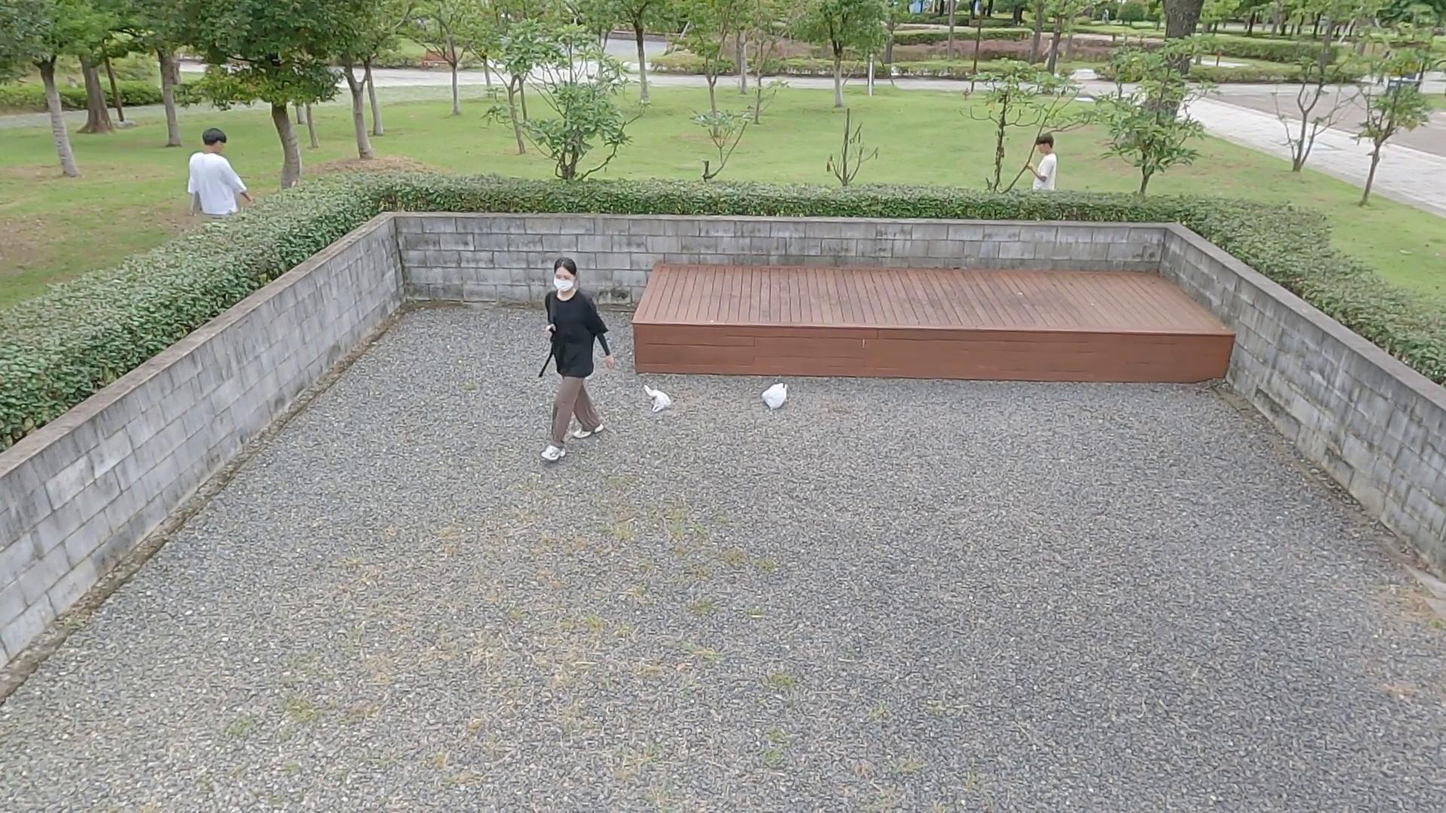person: (534, 248, 617, 466), (188, 118, 253, 223), (1025, 124, 1062, 193)
trash: (642, 384, 676, 415), (764, 381, 793, 413)
